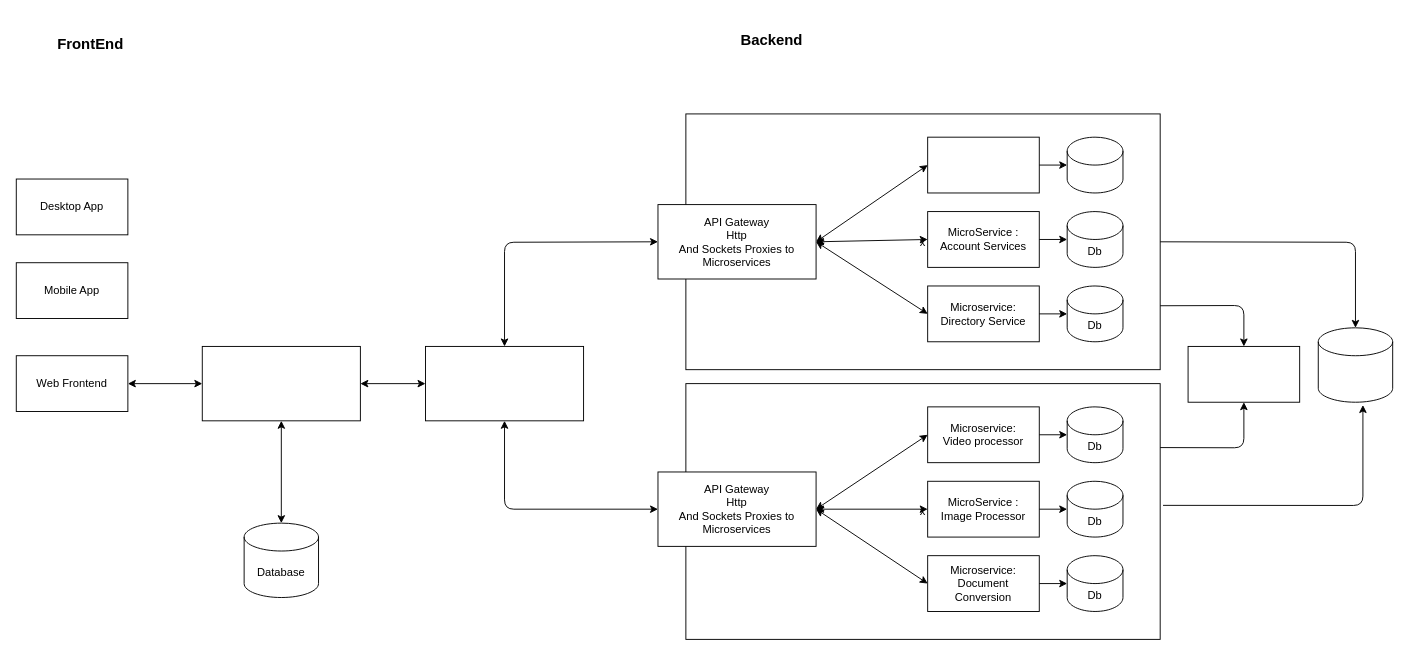
Some shapes in this 1409 by 656 pixel diagram are drawn without their labels. Each missing label, with the centre of its shape:
Application Backend: the point at 280,383
Auth Db: the point at 1094,164
Distributed Caching: the point at 1355,364
Message Bus: the point at 1243,373
Microservice: Authentication Service: the point at 983,164
Routing Gateway: the point at 504,383
